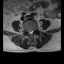CCS_normal: (30, 29, 31, 36)
LFS_stenosis: (33, 27, 35, 32)
LLS_normal: (31, 29, 33, 35)
RFS_severe_stenosis: (26, 28, 28, 32)
RLS_normal: (28, 29, 30, 35)
